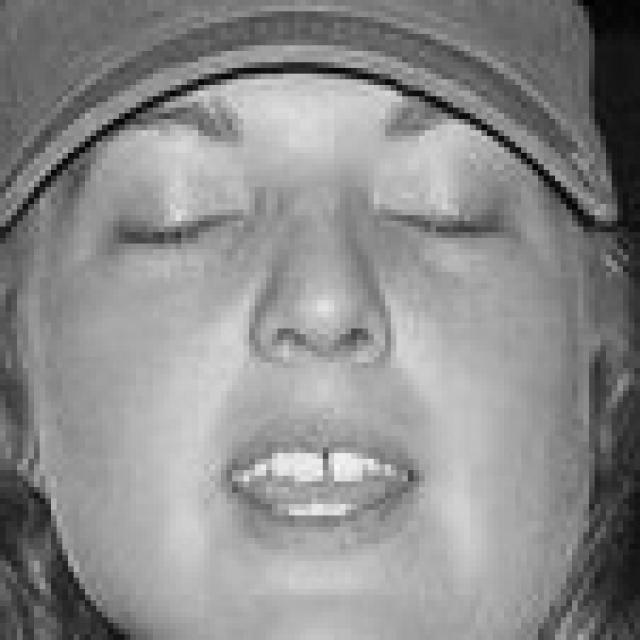real: (44, 10, 573, 640), (106, 166, 538, 271)
